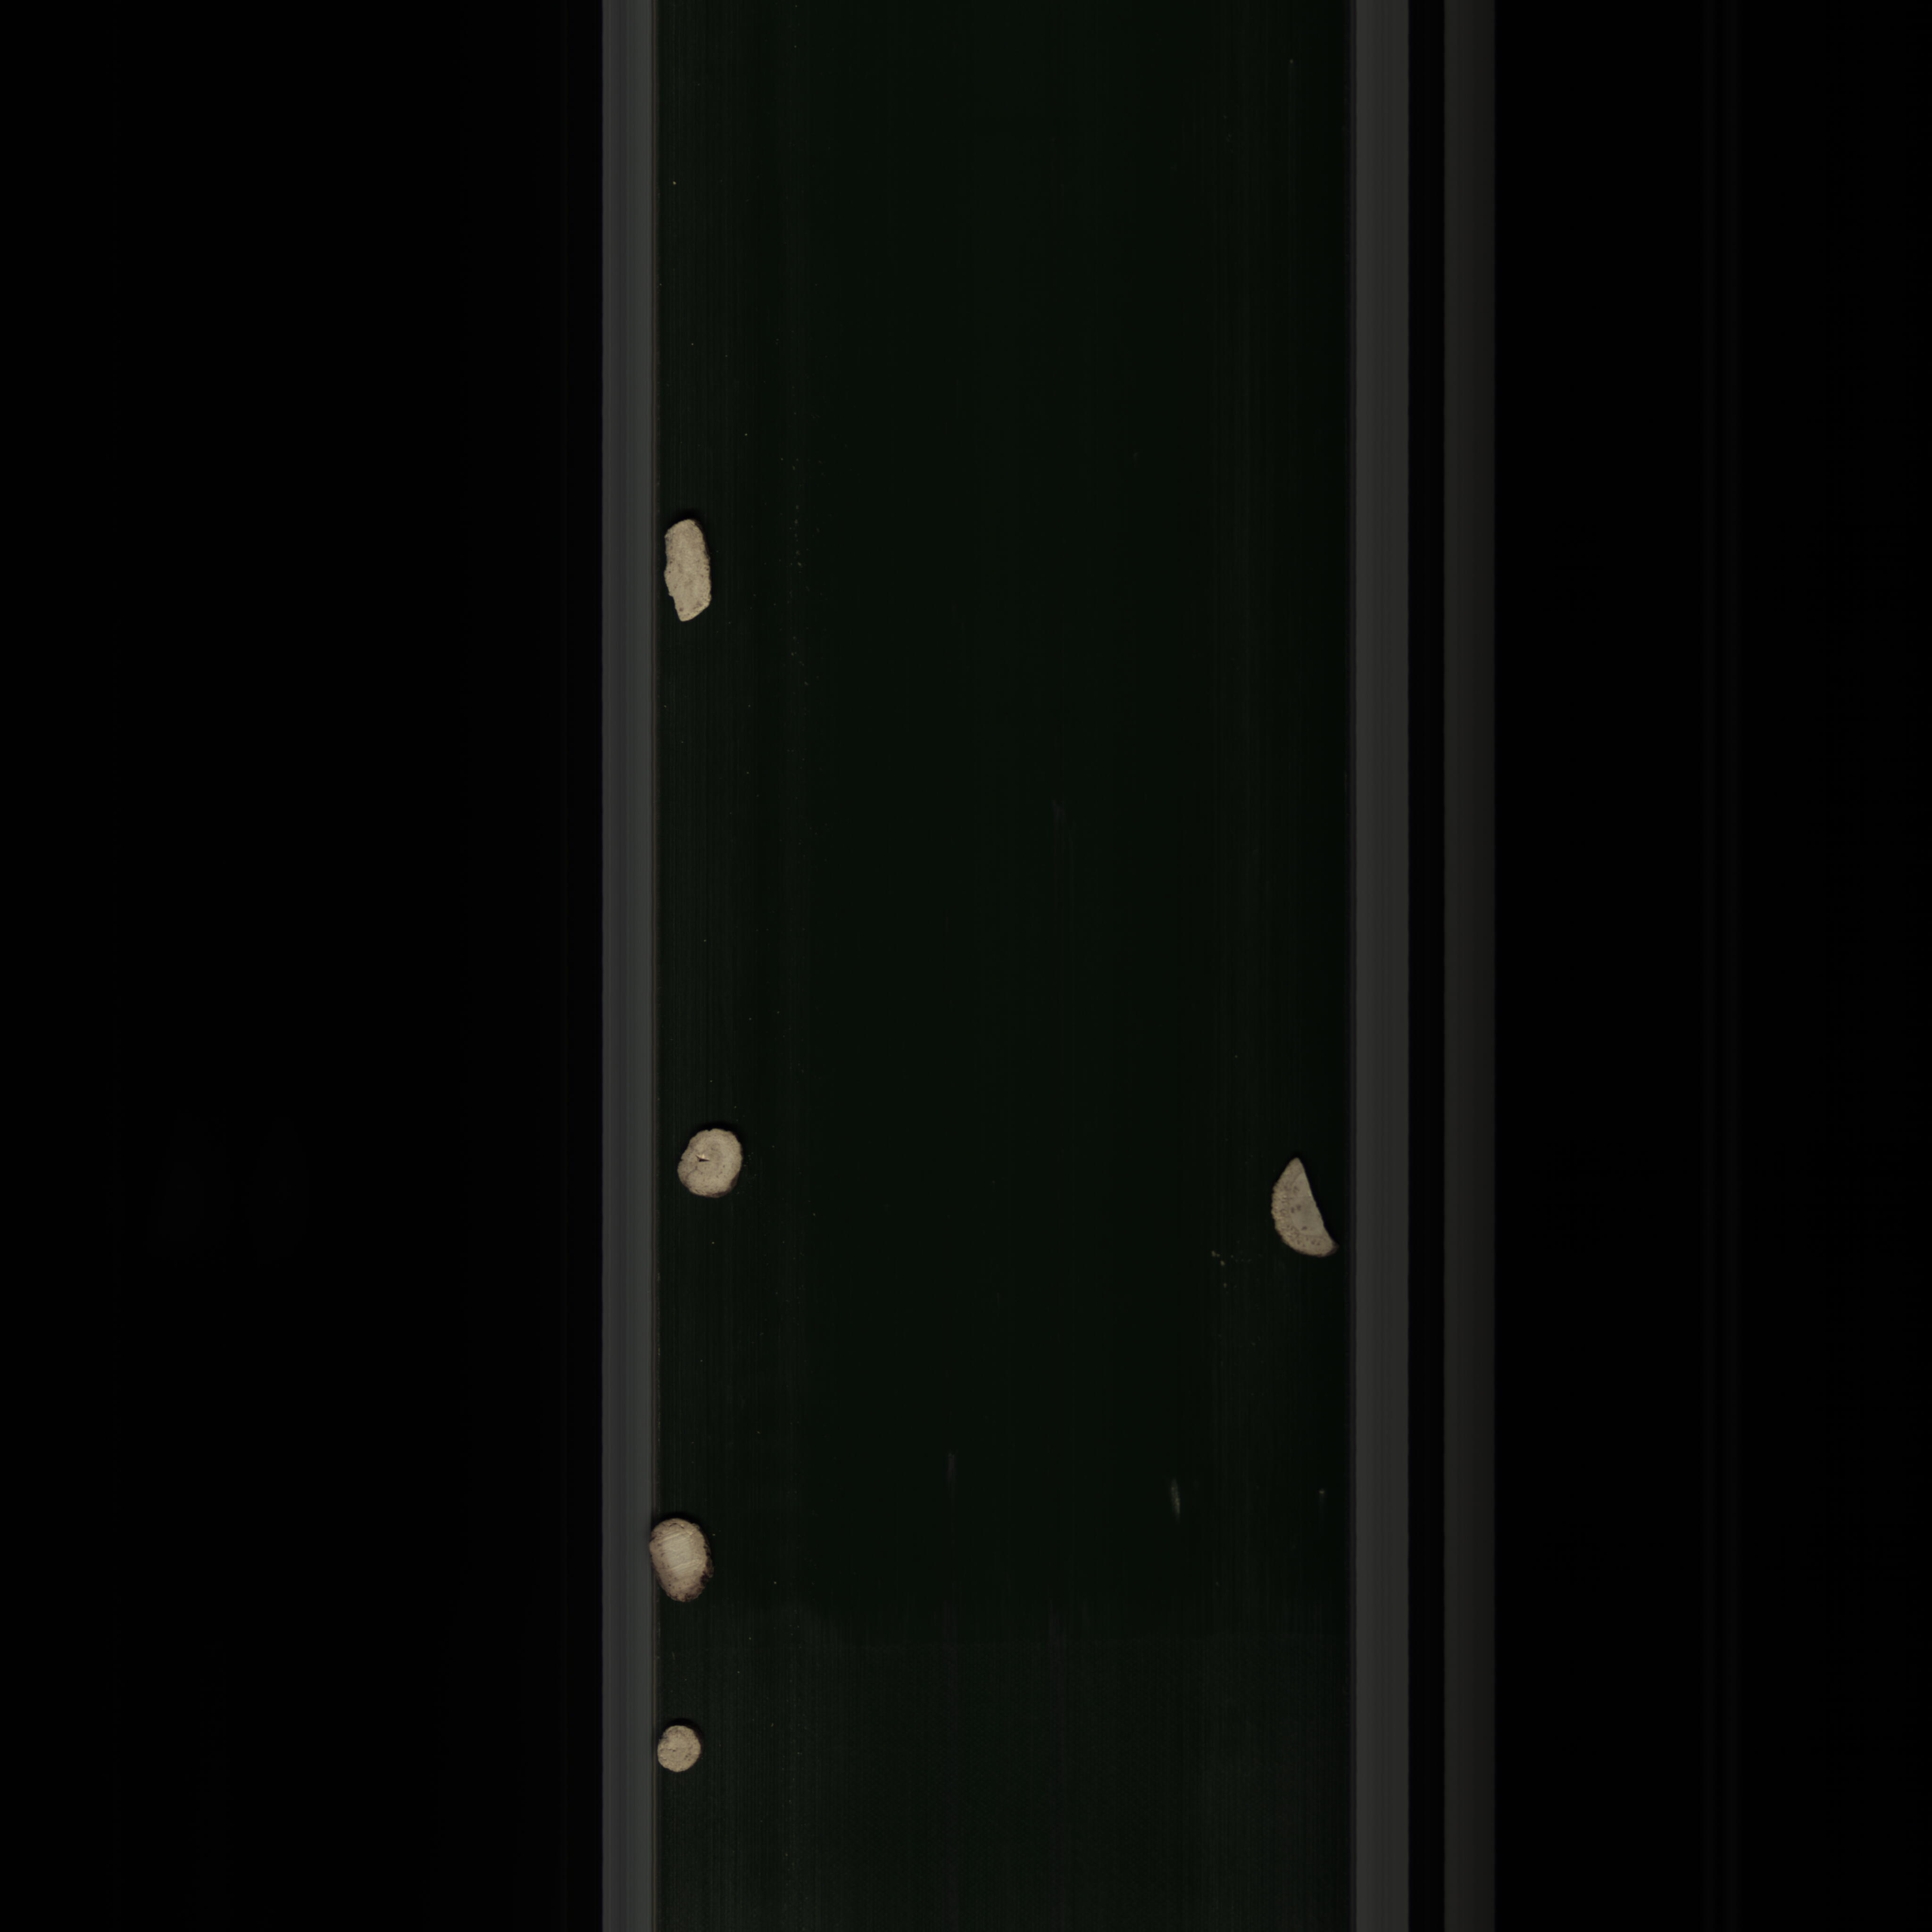debris: (1269, 1145, 1345, 1267), (658, 515, 724, 633)
